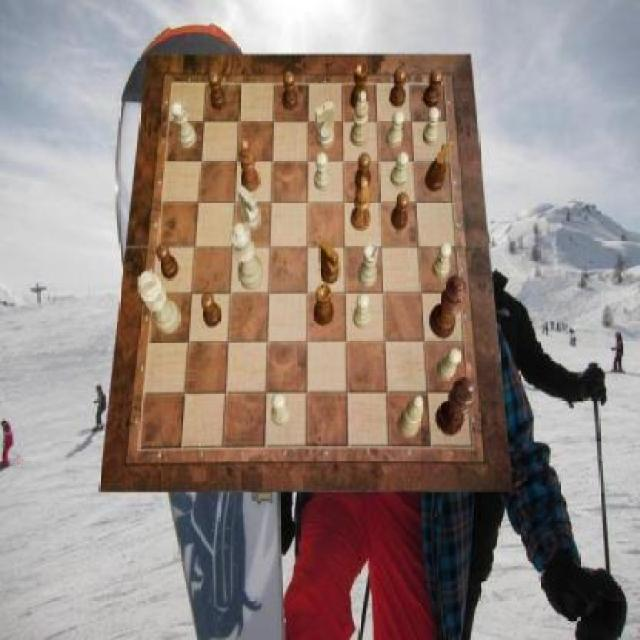bishop: (238, 138, 260, 192), (351, 177, 371, 231)
black-bishop: (436, 377, 476, 437)
black-king: (426, 145, 449, 192), (320, 238, 340, 284)
black-knight: (157, 244, 180, 280), (423, 69, 442, 108), (202, 292, 222, 328), (390, 68, 408, 108), (208, 71, 225, 111), (391, 192, 408, 231), (282, 71, 298, 111), (356, 152, 372, 190)
black-pawn: (429, 276, 467, 340)
black-queen: (314, 283, 334, 325), (351, 63, 368, 111)
black-rook: (398, 395, 424, 438), (351, 91, 368, 147)
white-bishop: (138, 270, 182, 334)
white-king: (238, 186, 262, 232), (316, 102, 334, 149)
white-knight: (438, 348, 462, 382), (432, 242, 452, 279), (272, 394, 292, 428), (386, 111, 404, 148), (314, 152, 331, 191), (423, 108, 440, 146), (354, 294, 371, 330), (391, 152, 408, 187)
white-pawn: (230, 223, 264, 291)
white-queen: (172, 102, 197, 149), (358, 241, 378, 287)
